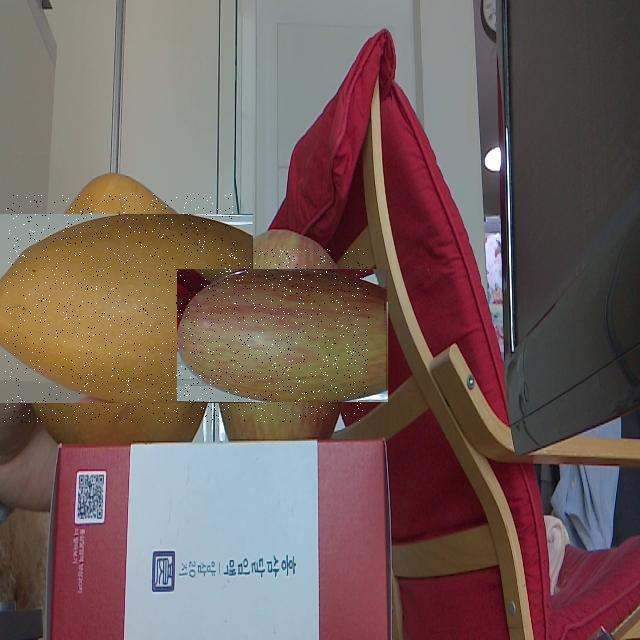apple: (197, 249, 369, 422)
pear: (4, 194, 234, 423)
